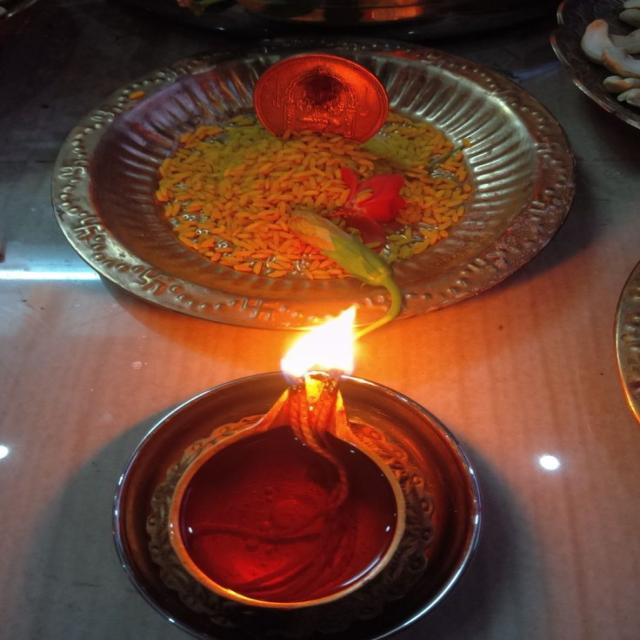fire: (280, 307, 359, 387)
